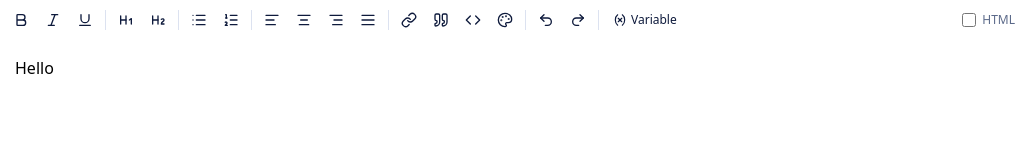
Scenario: CampaignBodyEditor (P8.3-ter smoke) › bouton Variable ouvre le menu avec {prenom} {societe} {etape}
Click the button "Variable".
click(645, 20)  # box 605,8 -> 685,32
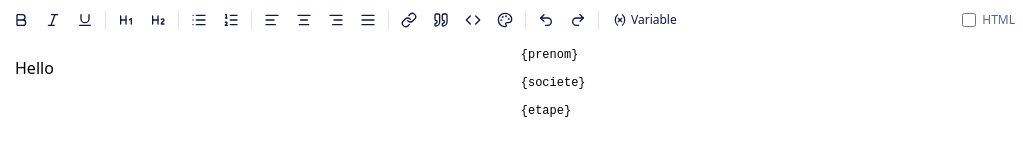
expect the button "{prenom}" is shown: met, box 509,40 -> 685,68
expect the button "{societe}" is shown: met, box 509,68 -> 685,96
expect the button "{etape}" is shown: met, box 509,96 -> 685,124
